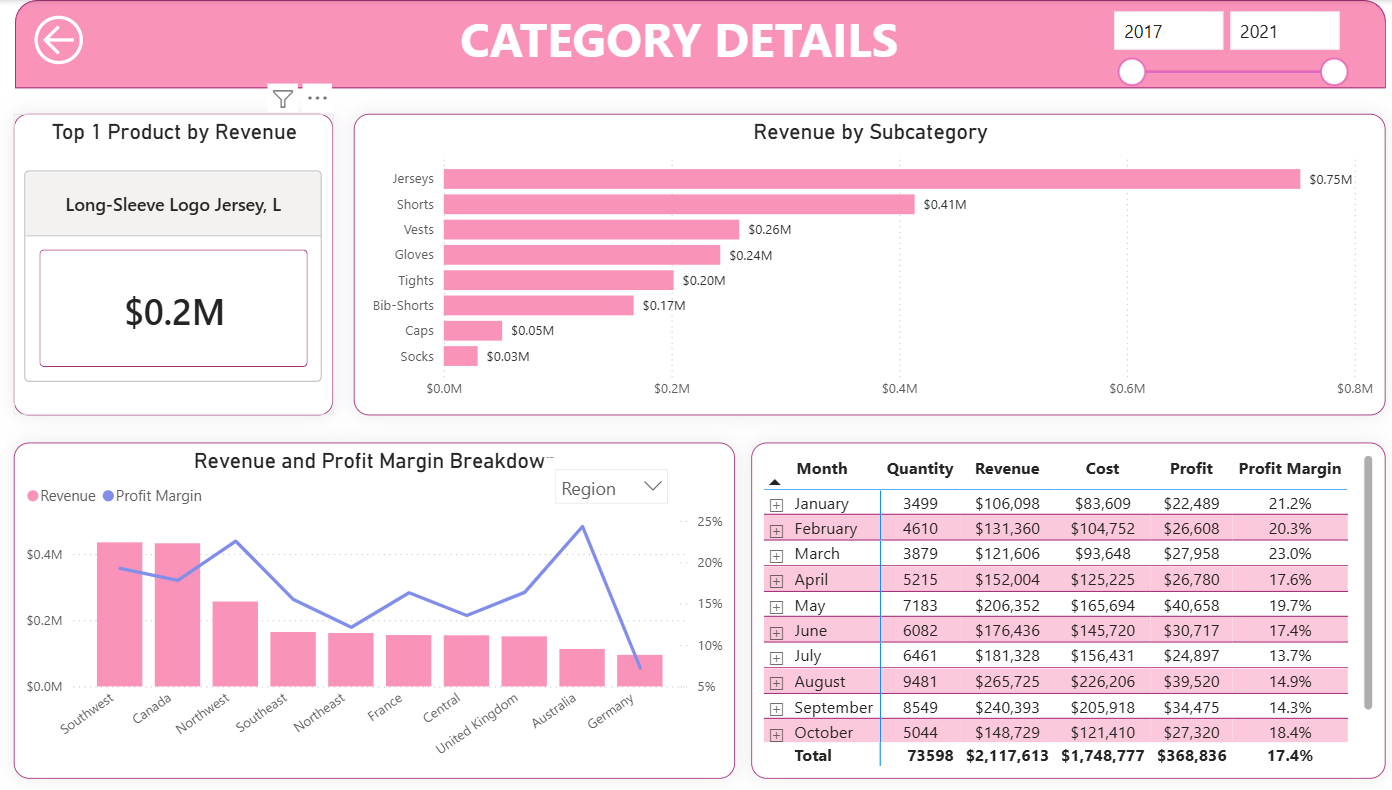

What the dashboard file says about the page in this screenshot:
{"tool":"powerbi","page":{"name":"Category Details","canvas":[1280,720],"ordinal":1},"visuals":[{"type":"shape","box":[22,0,1236.3,79.8],"z":0},{"type":"slicer","title":"Year","fields":{"Values":["Date.Full Date.Variation.Date Hierarchy.Year"]},"box":[1000.3,0,231.9,85.1],"z":1000},{"type":"lineStackedColumnComboChart","title":"Revenue and Profit Margin Breakdown","fields":{"Category":["Sales Territory.Region"],"Y":["*Measure table.M_Total Revenue"],"Y2":["*Measure table.M_Profit margin"]},"box":[22,399.3,650.4,303.3],"z":2000},{"type":"textbox","box":[278.6,0,686.1,71.4],"z":3000},{"type":"actionButton","box":[34.2,7.3,57.5,56.3],"z":4000},{"type":"cardVisual","title":"Top 1 Product by Revenue","fields":{"Data":["*Measure table.M_Total Sales"],"Rows":["Product.Product"]},"box":[22,102.9,288.2,271.7],"z":5000},{"type":"slicer","fields":{"Values":["Parameter.Parameter"]},"box":[499.5,413,122.1,52.1],"z":6000},{"type":"pivotTable","fields":{"Rows":["Date.Full Date.Variation.Date Hierarchy.Month","Date.Full Date.Variation.Date Hierarchy.Day"],"Values":["*Measure table.Total Quantity","*Measure table.M_Total Sales","*Measure table.M_Total cost","*Measure table.M_Total profit","*Measure table.M_Profit margin"]},"box":[686.1,399.3,572.2,303.3],"z":7000},{"type":"clusteredBarChart","title":"Revenue by Subcategory","fields":{"Category":["Product.Subcategory"],"Y":["*Measure table.M_Total Revenue"]},"box":[328,102.9,930.4,271.7],"z":8000}]}

Visuals, with their boxes in screenshot pixels (x1, y1, x2, y2), scaled from the page's 1280x720 canvas onto the 1392x790 screenshot:
shape: detection(24, 0, 1368, 88)
"Year" slicer: detection(1088, 0, 1340, 93)
"Revenue and Profit Margin Breakdown" lineStackedColumnComboChart: detection(24, 438, 731, 771)
textbox: detection(303, 0, 1049, 78)
actionButton: detection(37, 8, 100, 70)
"Top 1 Product by Revenue" cardVisual: detection(24, 113, 337, 411)
slicer - Parameter.Parameter: detection(543, 453, 676, 510)
pivotTable - Date.Full Date.Variation.Date Hierarchy.Month x Date.Full Date.Variation.Date Hierarchy.Day: detection(746, 438, 1368, 771)
"Revenue by Subcategory" clusteredBarChart: detection(357, 113, 1369, 411)
